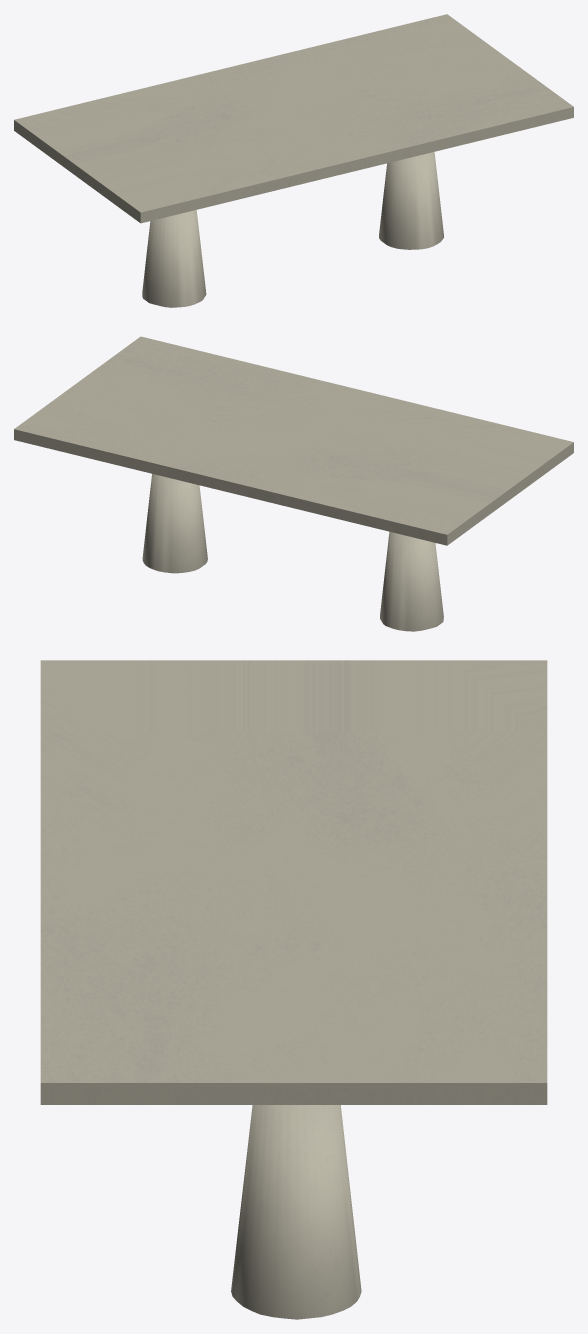
File: silk_recta_standard_pebble.glb
The picture shows the model from 3 angles, top to bottom: view 1: azimuth 30°, elevation 25°; view 2: azimuth 150°, elevation 25°; view 3: azimuth 270°, elevation 25°; orthographic projection. The views are drawn at different scales.
Parts seen in each view (by area): view 1: silk_rectastandard_pebble; view 2: silk_rectastandard_pebble; view 3: silk_rectastandard_pebble.
Part boxes in pixels (left/top/right/bottom): silk_rectastandard_pebble: left=14, top=14, right=573, bottom=307; silk_rectastandard_pebble: left=14, top=336, right=573, bottom=631; silk_rectastandard_pebble: left=40, top=660, right=547, bottom=1319.
Bounding box in the file's own units: 7.5 × 2.52 × 3.8.
1 material, 1 textured.
